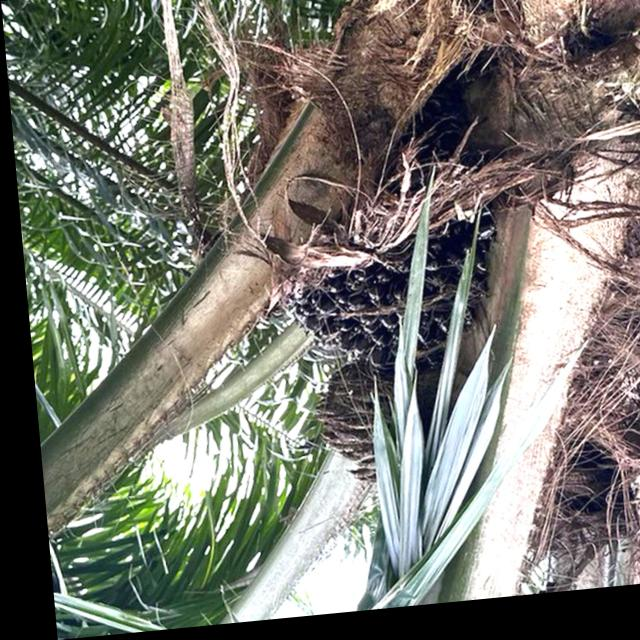unripe: (251, 110, 497, 376)
